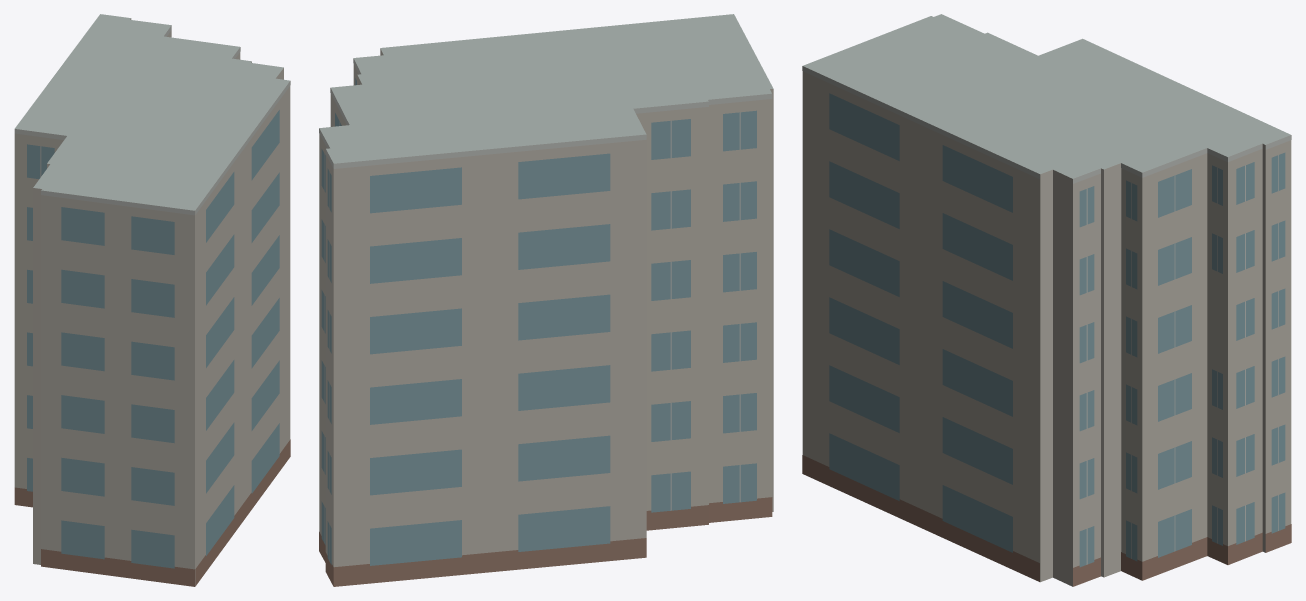
Rendered from survey-upis-33009018.glb.
The picture shows the model from 3 angles, left to right: view 1: azimuth 30°, elevation 25°; view 2: azimuth 150°, elevation 25°; view 3: azimuth 270°, elevation 25°; orthographic projection. The views are drawn at different scales.
Visible parts, largest first — view 1: survey-upis-33009018.tmp; view 2: survey-upis-33009018.tmp; view 3: survey-upis-33009018.tmp.
Boxes of the visible parts, x1=… form: survey-upis-33009018.tmp: x1=14, y1=14, x2=290, y2=586; survey-upis-33009018.tmp: x1=319, y1=14, x2=773, y2=586; survey-upis-33009018.tmp: x1=802, y1=14, x2=1291, y2=586.
Bounding box in the file's own units: 17 × 19.6 × 21.29.
